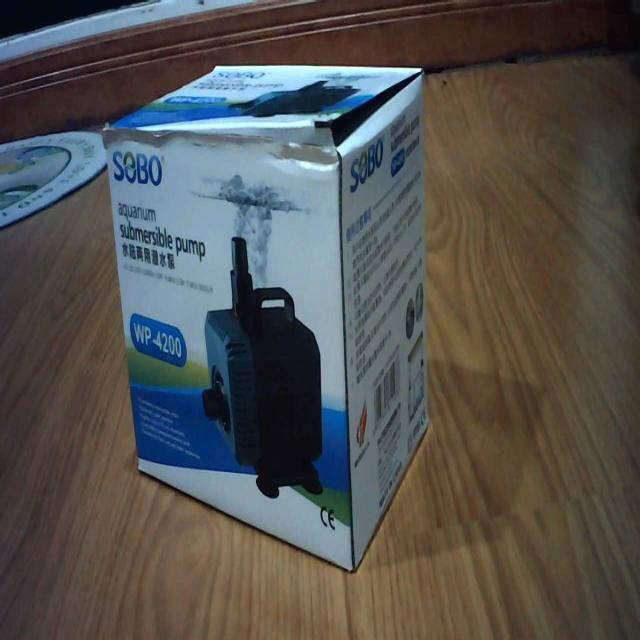SOBO_WP_4200: (100, 55, 424, 579)
